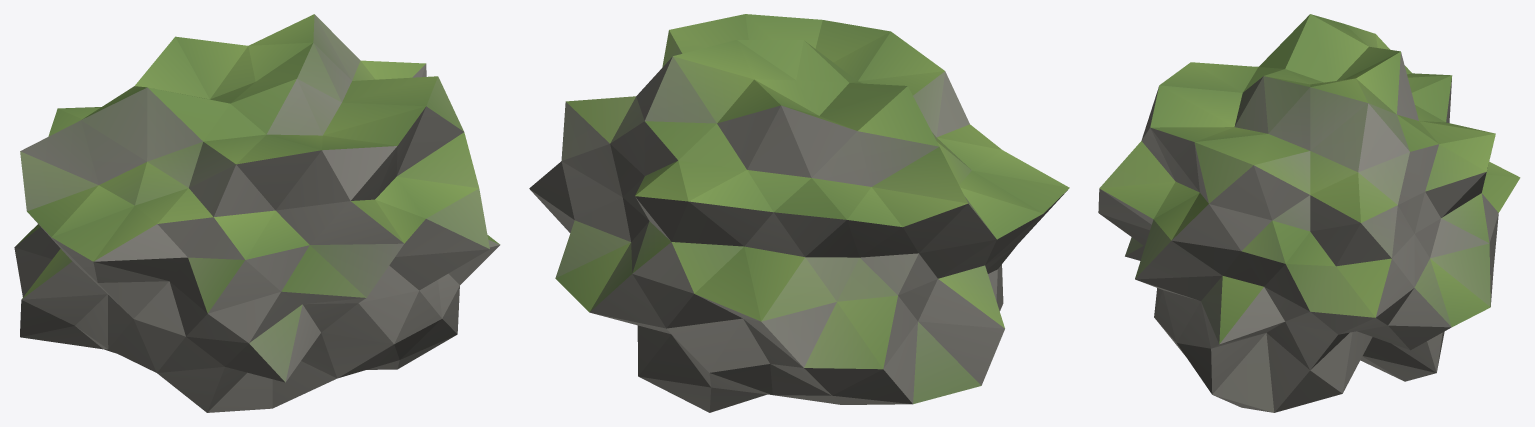
File: rock_big.glb
The picture shows the model from 3 angles, left to right: view 1: azimuth 30°, elevation 25°; view 2: azimuth 150°, elevation 25°; view 3: azimuth 270°, elevation 25°; orthographic projection. The views are drawn at different scales.
Parts seen in each view (by area): view 1: Rock_big-col; view 2: Rock_big-col; view 3: Rock_big-col.
Boxes of the visible parts, x1,y1,x2,y2 form: Rock_big-col: [14, 14, 500, 412]; Rock_big-col: [529, 14, 1069, 412]; Rock_big-col: [1098, 14, 1520, 412].
Bounding box in the file's own units: 3.49 × 2.42 × 2.99.
